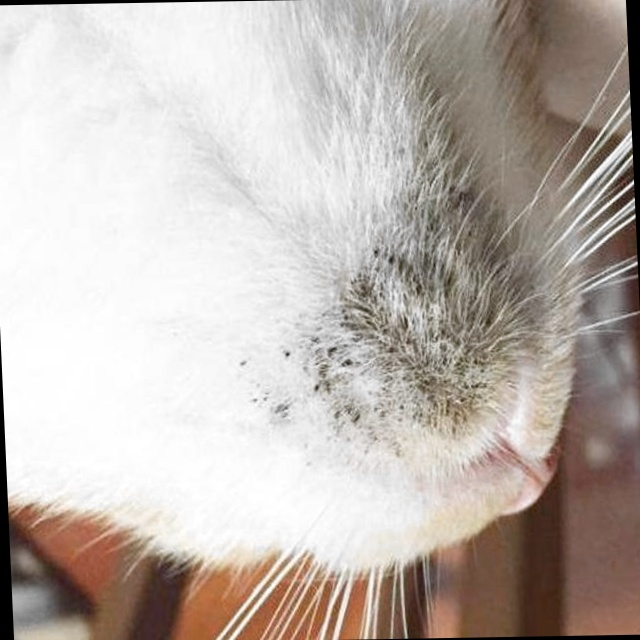acne: (261, 182, 540, 459)
